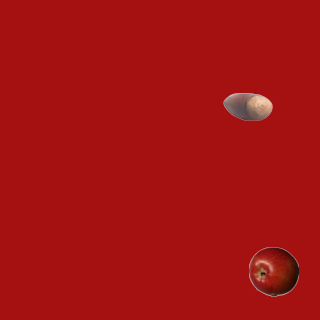Apple Braeburn: (248, 246, 298, 296)
Hazelnut: (222, 81, 272, 131)
